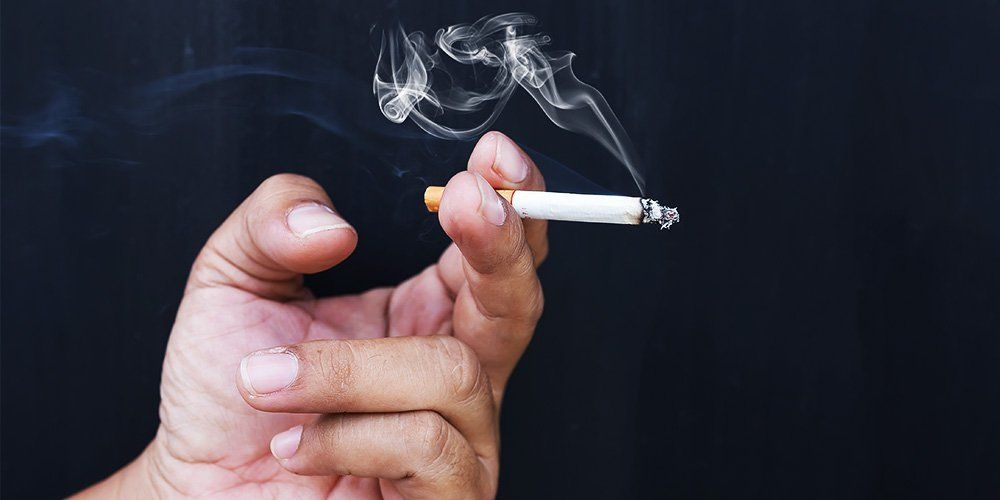sigaretta: (430, 152, 702, 238)
